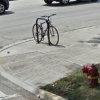Bicycle: (29, 11, 68, 54)
